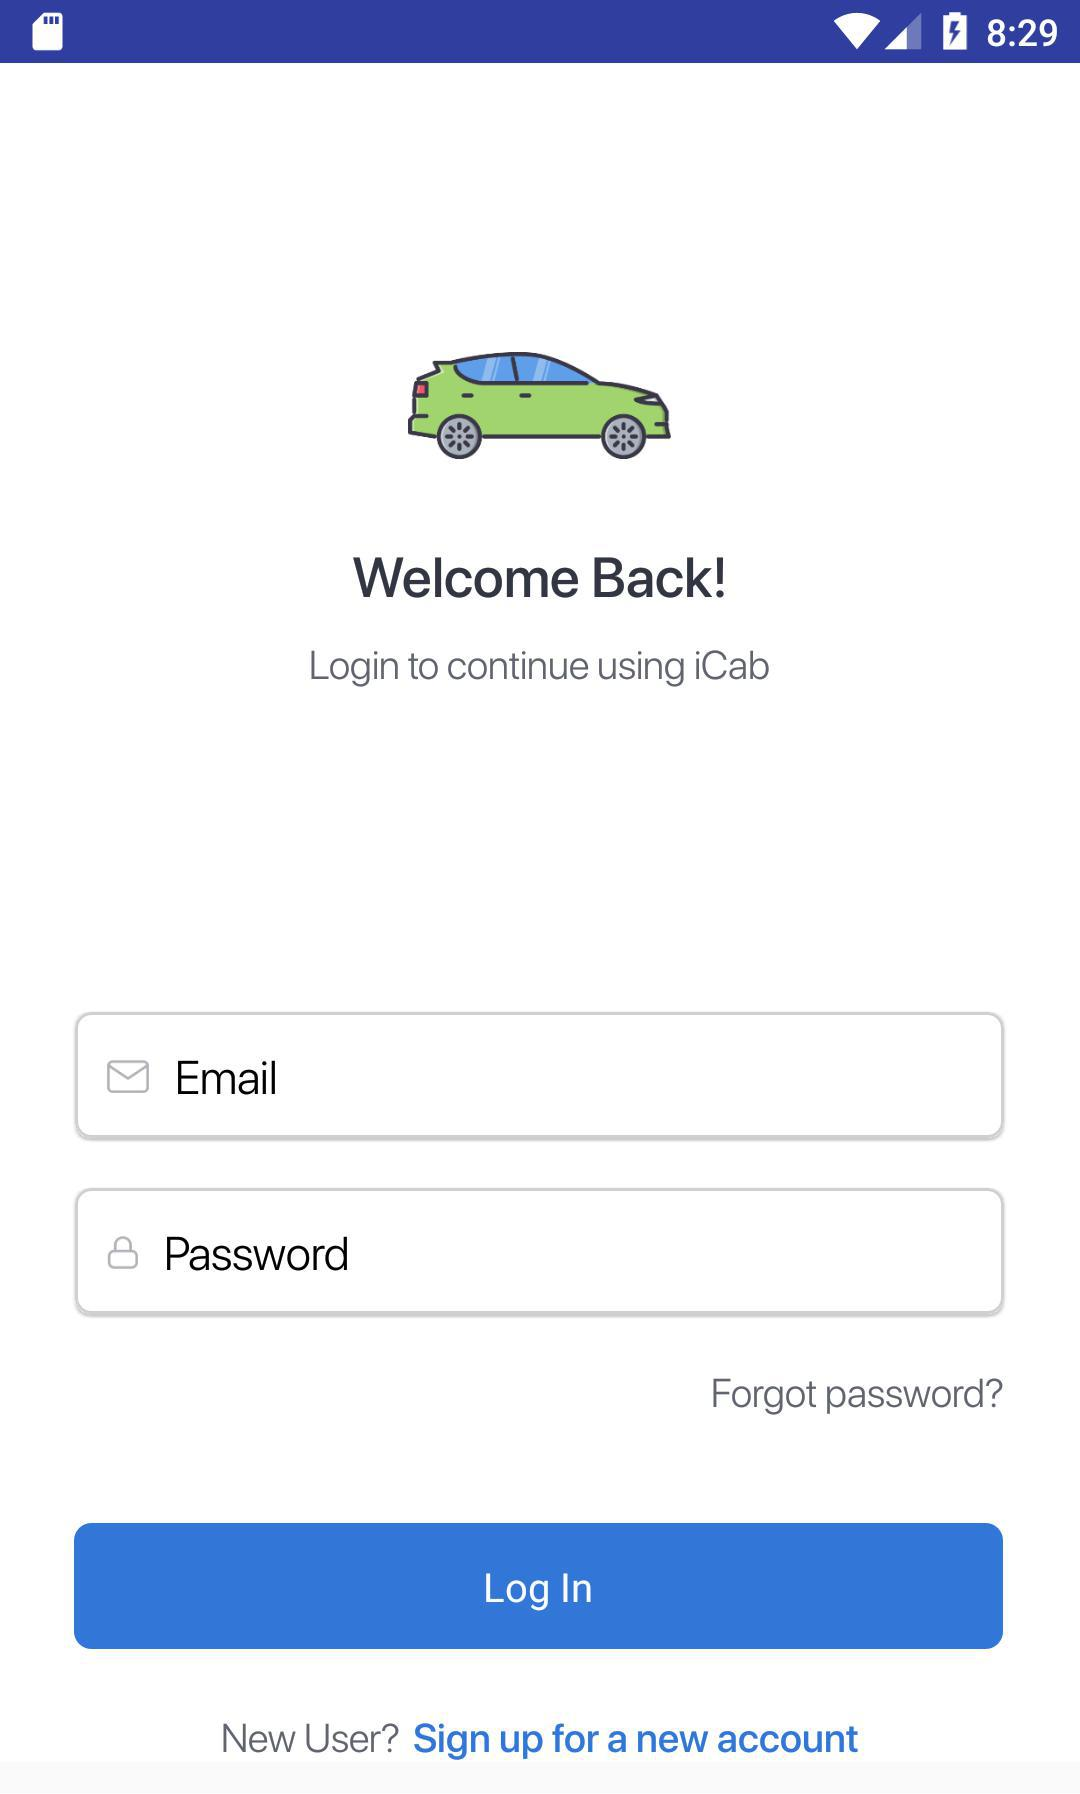EditText: (76, 1011, 1004, 1142), (76, 1188, 1004, 1319)
Icon: (108, 1060, 150, 1094), (108, 1237, 138, 1270)
Image: (407, 352, 673, 461)
Text: (313, 650, 770, 688), (415, 1722, 858, 1759), (354, 556, 725, 598), (714, 1378, 1003, 1415), (167, 1237, 348, 1272), (223, 1722, 400, 1753), (178, 1060, 275, 1096)
TextButton: (74, 1524, 1003, 1649)
UpperTaskBar: (1, 1, 1080, 64)
